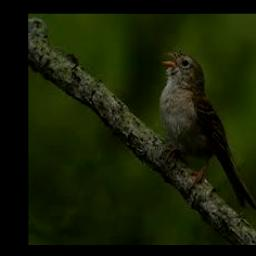Sparrow: (158, 49, 256, 212)
